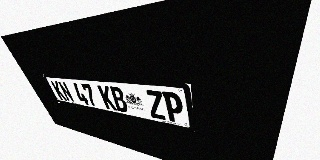4: (71, 83, 90, 105)
7: (80, 83, 99, 107)
B: (109, 86, 129, 113)
K: (97, 85, 117, 111), (50, 80, 67, 101)
N: (57, 81, 75, 102)
P: (162, 91, 185, 124)
Z: (145, 90, 167, 120)
